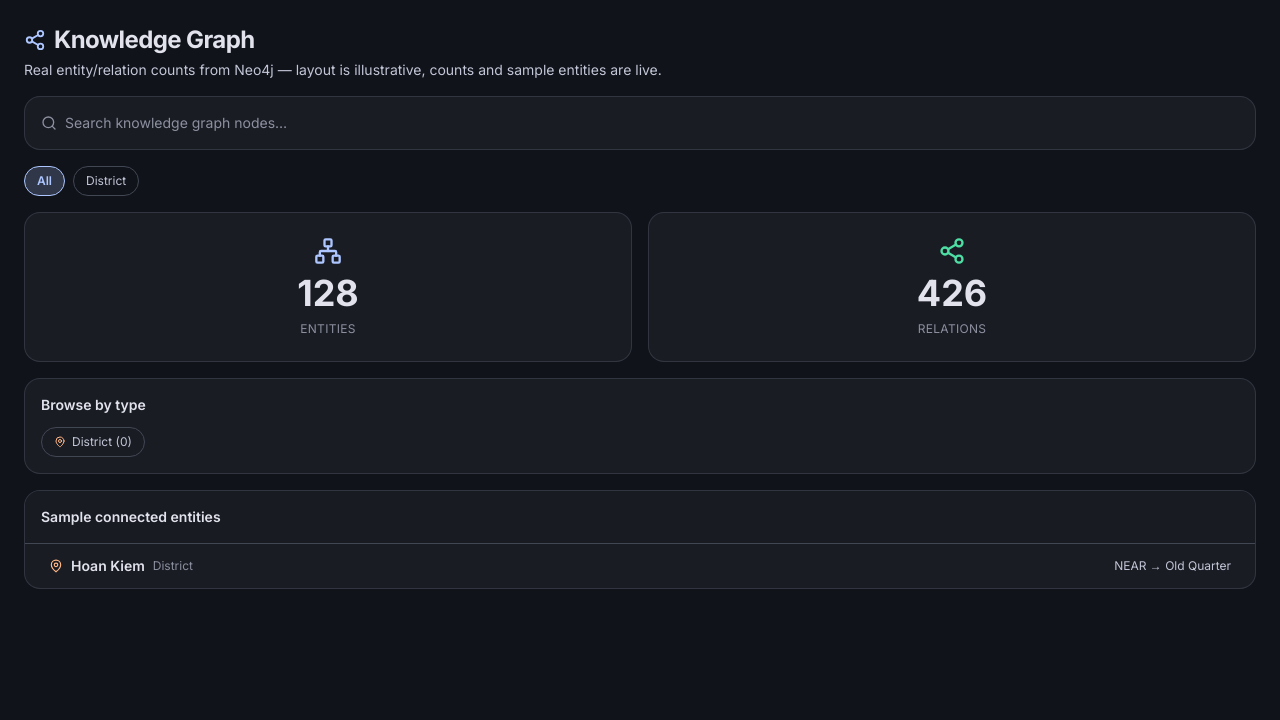
it: KnowledgeGraphPage › shows an empty state when a label has no entities
The image size is (1280, 720).
Click the button "District (0)". click: (93, 442)
box: [41, 427, 145, 457]
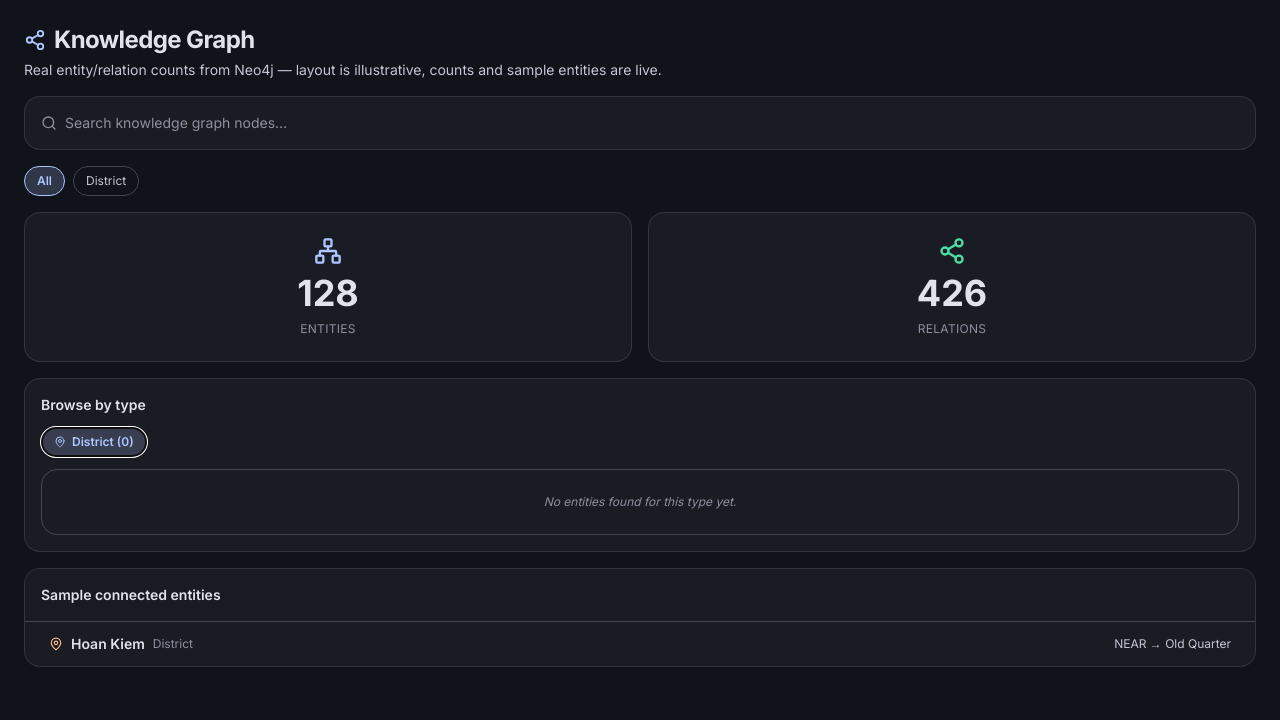
Check: the text "No entities found for this type yet." is shown, box [544, 494, 736, 509]
